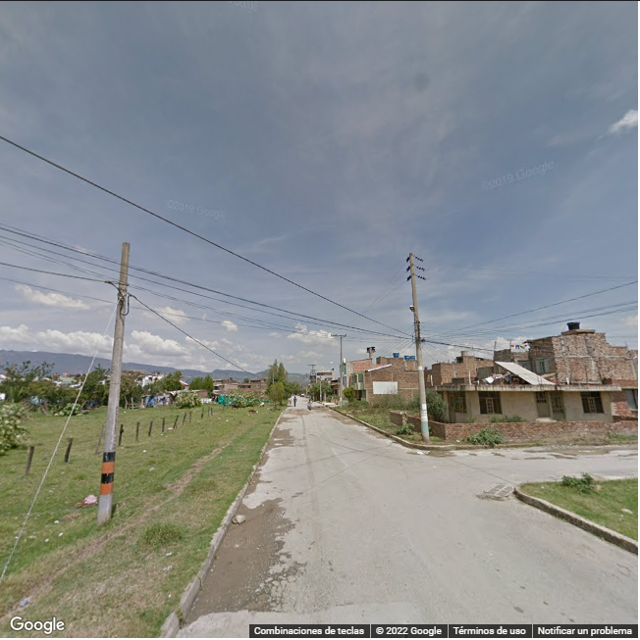D10: (254, 599, 352, 616)
